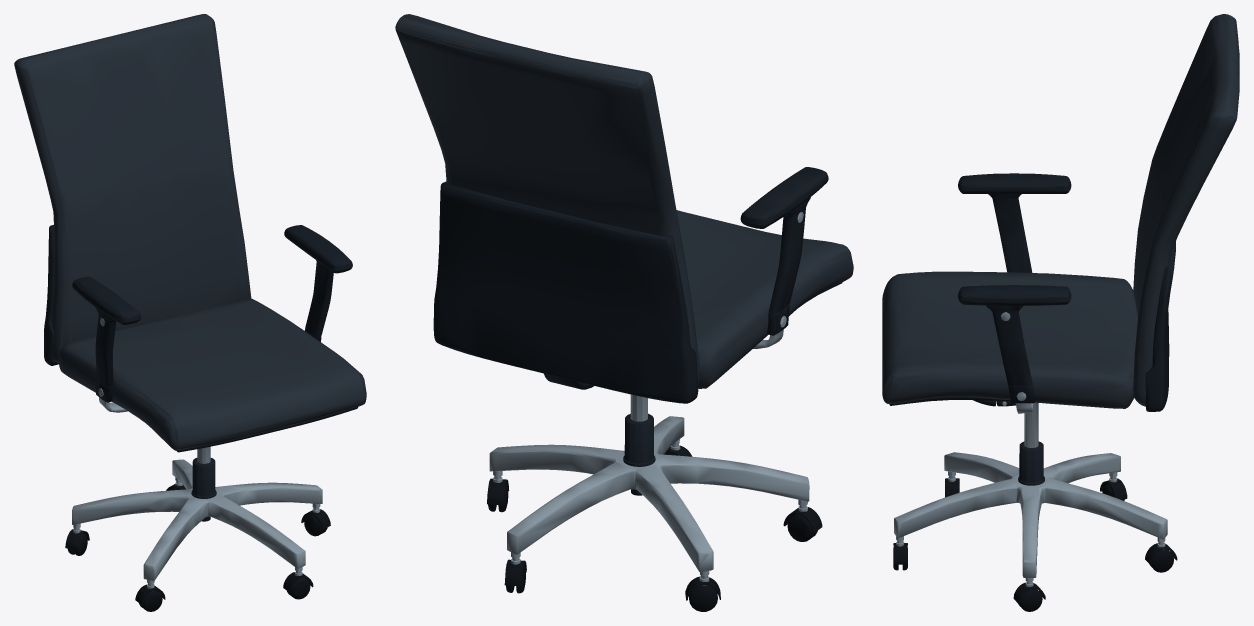
Rendered from chair.glb.
The picture shows the model from 3 angles, left to right: view 1: azimuth 30°, elevation 25°; view 2: azimuth 150°, elevation 25°; view 3: azimuth 270°, elevation 25°; orthographic projection. The views are drawn at different scales.
Parts seen in each view (by area): view 1: upholstery, hardware, body, rubber; view 2: upholstery, body, hardware, rubber; view 3: upholstery, body, hardware, rubber.
Part boxes in pixels (left/top/right/bottom): upholstery: left=14, top=14, right=366, bottom=450; hardware: left=72, top=317, right=322, bottom=588; body: left=44, top=225, right=357, bottom=521; rubber: left=65, top=484, right=330, bottom=611; upholstery: left=395, top=14, right=853, bottom=388; body: left=433, top=167, right=842, bottom=495; hardware: left=489, top=212, right=809, bottom=585; rubber: left=487, top=445, right=822, bottom=611; upholstery: left=882, top=14, right=1239, bottom=408; body: left=889, top=173, right=1175, bottom=485; hardware: left=894, top=312, right=1167, bottom=589; rubber: left=893, top=478, right=1177, bottom=611.
Bounding box in the file's own units: 0.6432 × 1.18 × 0.7805.
